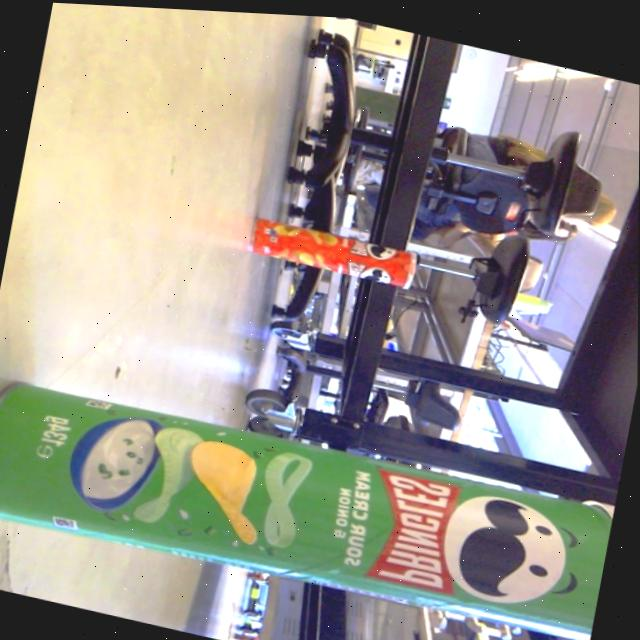greenpringles: (0, 353, 617, 640)
redpringles: (239, 198, 433, 303)
